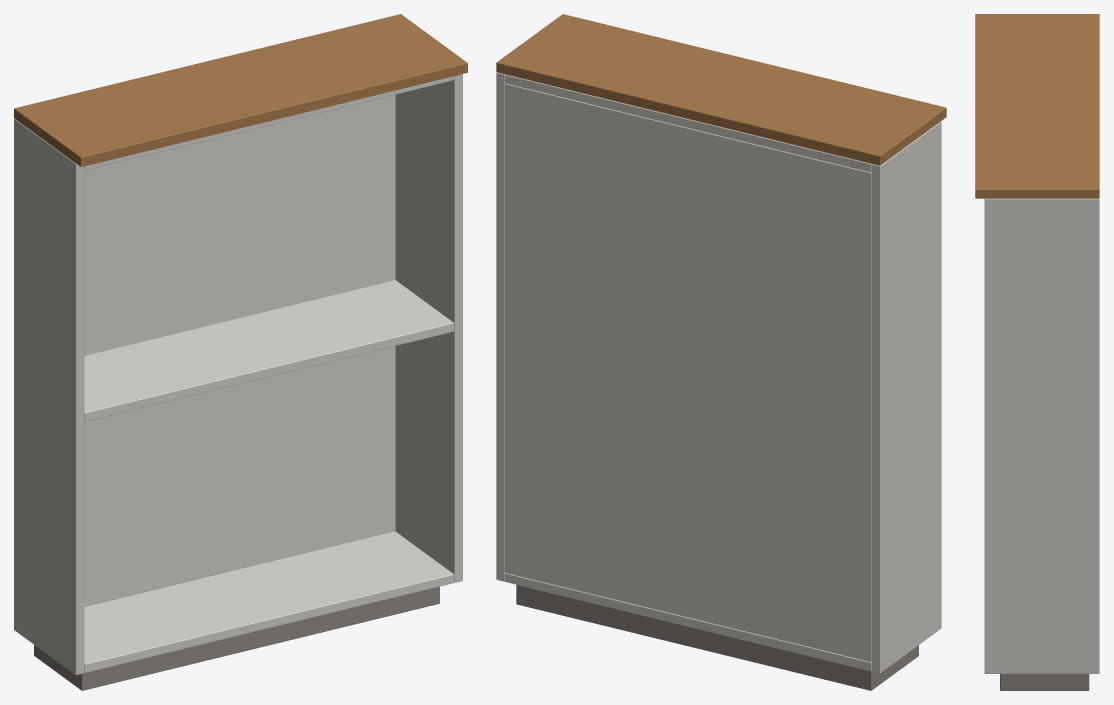
Rendered from shoe_cabinet_tipout_body.glb.
The picture shows the model from 3 angles, left to right: view 1: azimuth 30°, elevation 25°; view 2: azimuth 150°, elevation 25°; view 3: azimuth 270°, elevation 25°; orthographic projection. The views are drawn at different scales.
Visible parts, largest first — view 1: shoe_cabinet_tipout_body.001; view 2: shoe_cabinet_tipout_body.001; view 3: shoe_cabinet_tipout_body.001.
Part boxes in pixels (box(x1,y1,x2,y2)): shoe_cabinet_tipout_body.001: box(14, 14, 467, 690); shoe_cabinet_tipout_body.001: box(496, 14, 946, 690); shoe_cabinet_tipout_body.001: box(975, 14, 1099, 690).
Size of the model in its own units: 0.8 by 1.08 by 0.24.
